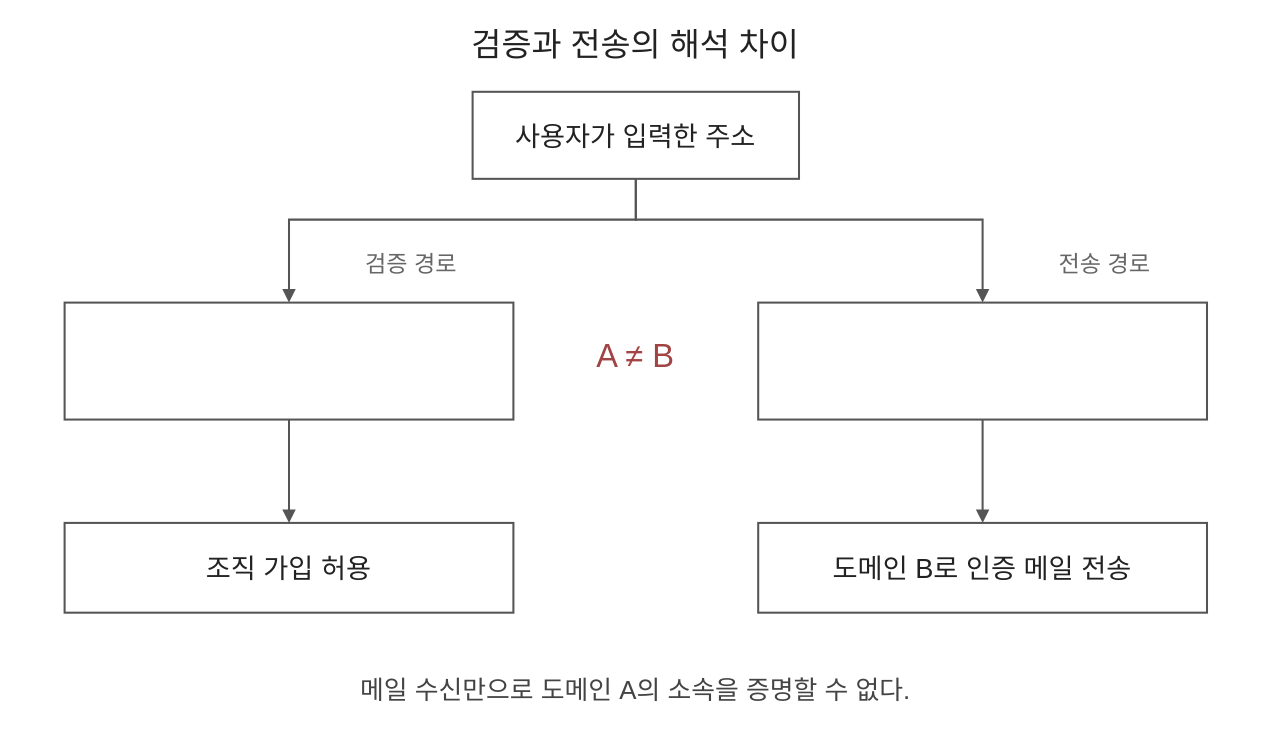
Image size: 1270x736. Some labels were removed from this diagram. The shapes that lost their labels are listed below. From the top down, each one's centre as x and y in pixels, then its label:
At point 288,360: "검증 라이브러리 도메인 A로 해석".
At point 982,360: "메일 라이브러리 도메인 B로 해석".
